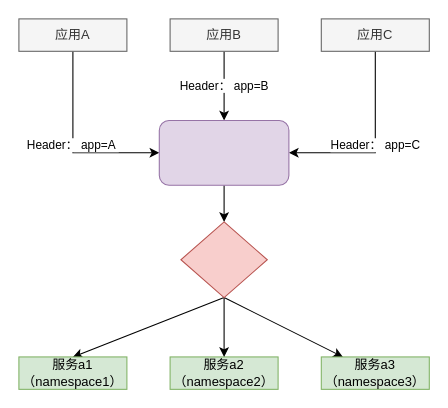
Some shapes in this 448 by 408 pixel diagram are drawn without their labels. Here are the shapes that lost their labels. From the top down, the box of each, then its label:
(158, 119, 289, 185): 网关（traefik）
(180, 221, 267, 298): 服务路由（IngressRoute）
